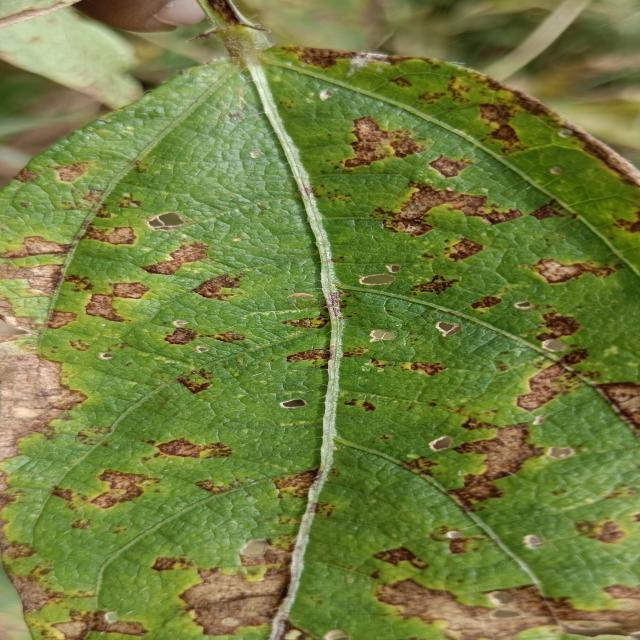Black gram_leaf spot: (4, 35, 640, 640)
